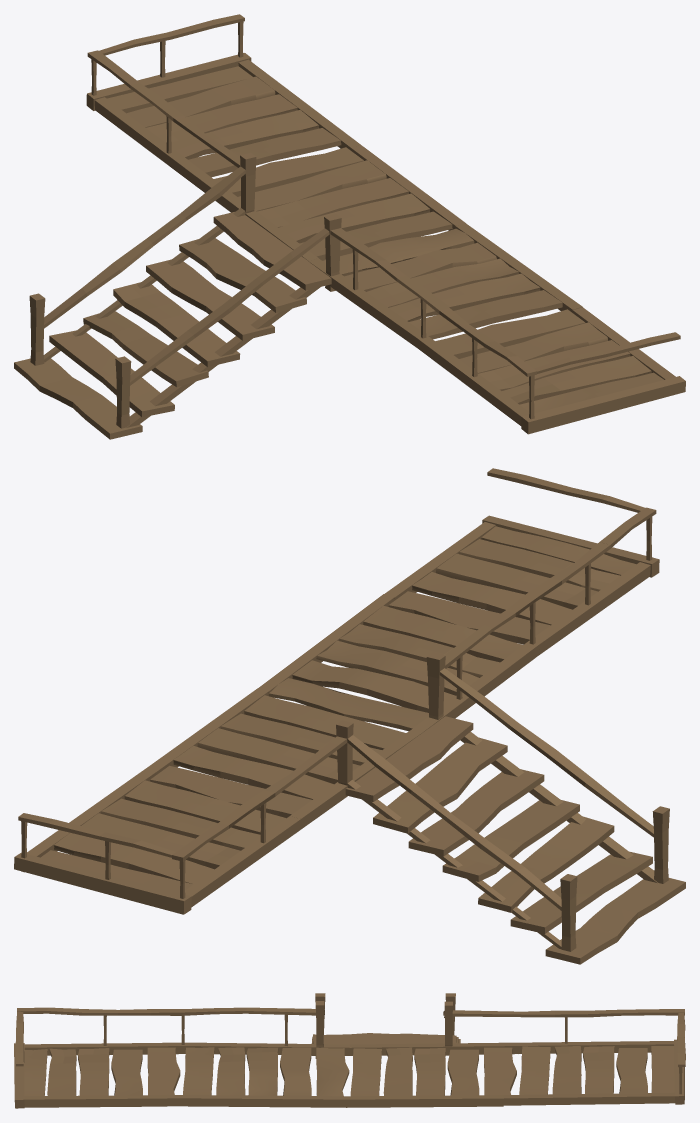
File: Wooden_Platform.fbx
The picture shows the model from 3 angles, top to bottom: view 1: azimuth 30°, elevation 25°; view 2: azimuth 150°, elevation 25°; view 3: azimuth 270°, elevation 25°; orthographic projection. The views are drawn at different scales.
Parts seen in each view (by area): view 1: Wooden Stairs.005; view 2: Wooden Stairs.005; view 3: Wooden Stairs.005.
Part boxes in pixels (x1,y1,x2,y2): Wooden Stairs.005: (14, 14, 685, 439); Wooden Stairs.005: (14, 468, 685, 964); Wooden Stairs.005: (14, 993, 685, 1108).
Size of the model in its own units: 659 by 271 by 1319.
